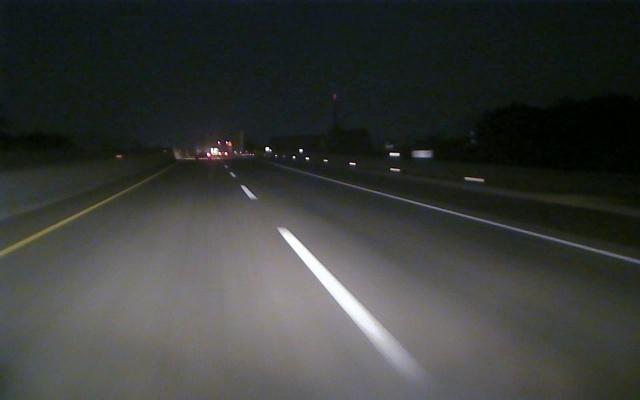lane: (239, 183, 427, 378), (305, 173, 637, 262), (0, 176, 154, 260)
